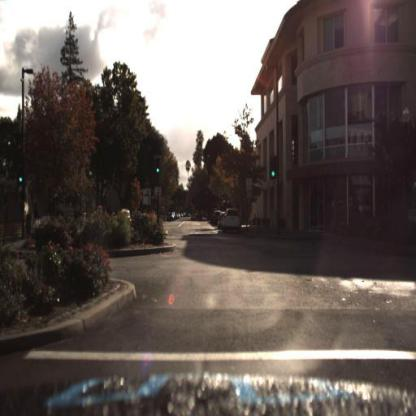car: (221, 208, 242, 237)
pedestrian: (350, 196, 360, 233)
trafficLight: (16, 163, 27, 192), (151, 157, 162, 183), (269, 158, 279, 184)
trafficLight-Green: (156, 152, 164, 177), (19, 166, 24, 189)
